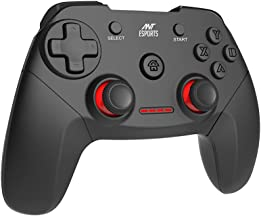gamingconsole: (3, 1, 261, 214)
